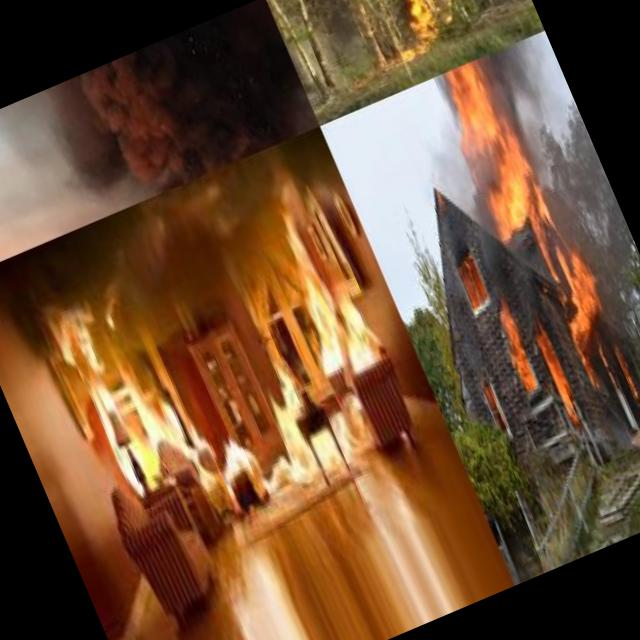fire: (432, 54, 562, 252), (48, 302, 164, 500), (259, 199, 364, 383), (256, 362, 353, 486), (144, 378, 228, 499), (318, 272, 396, 392), (542, 251, 620, 364), (488, 296, 550, 406), (529, 326, 588, 432), (206, 416, 263, 488), (379, 0, 460, 47), (615, 349, 640, 401)
smoke: (0, 0, 319, 255), (512, 105, 628, 254), (449, 172, 532, 306), (474, 35, 566, 136), (573, 225, 640, 333)
